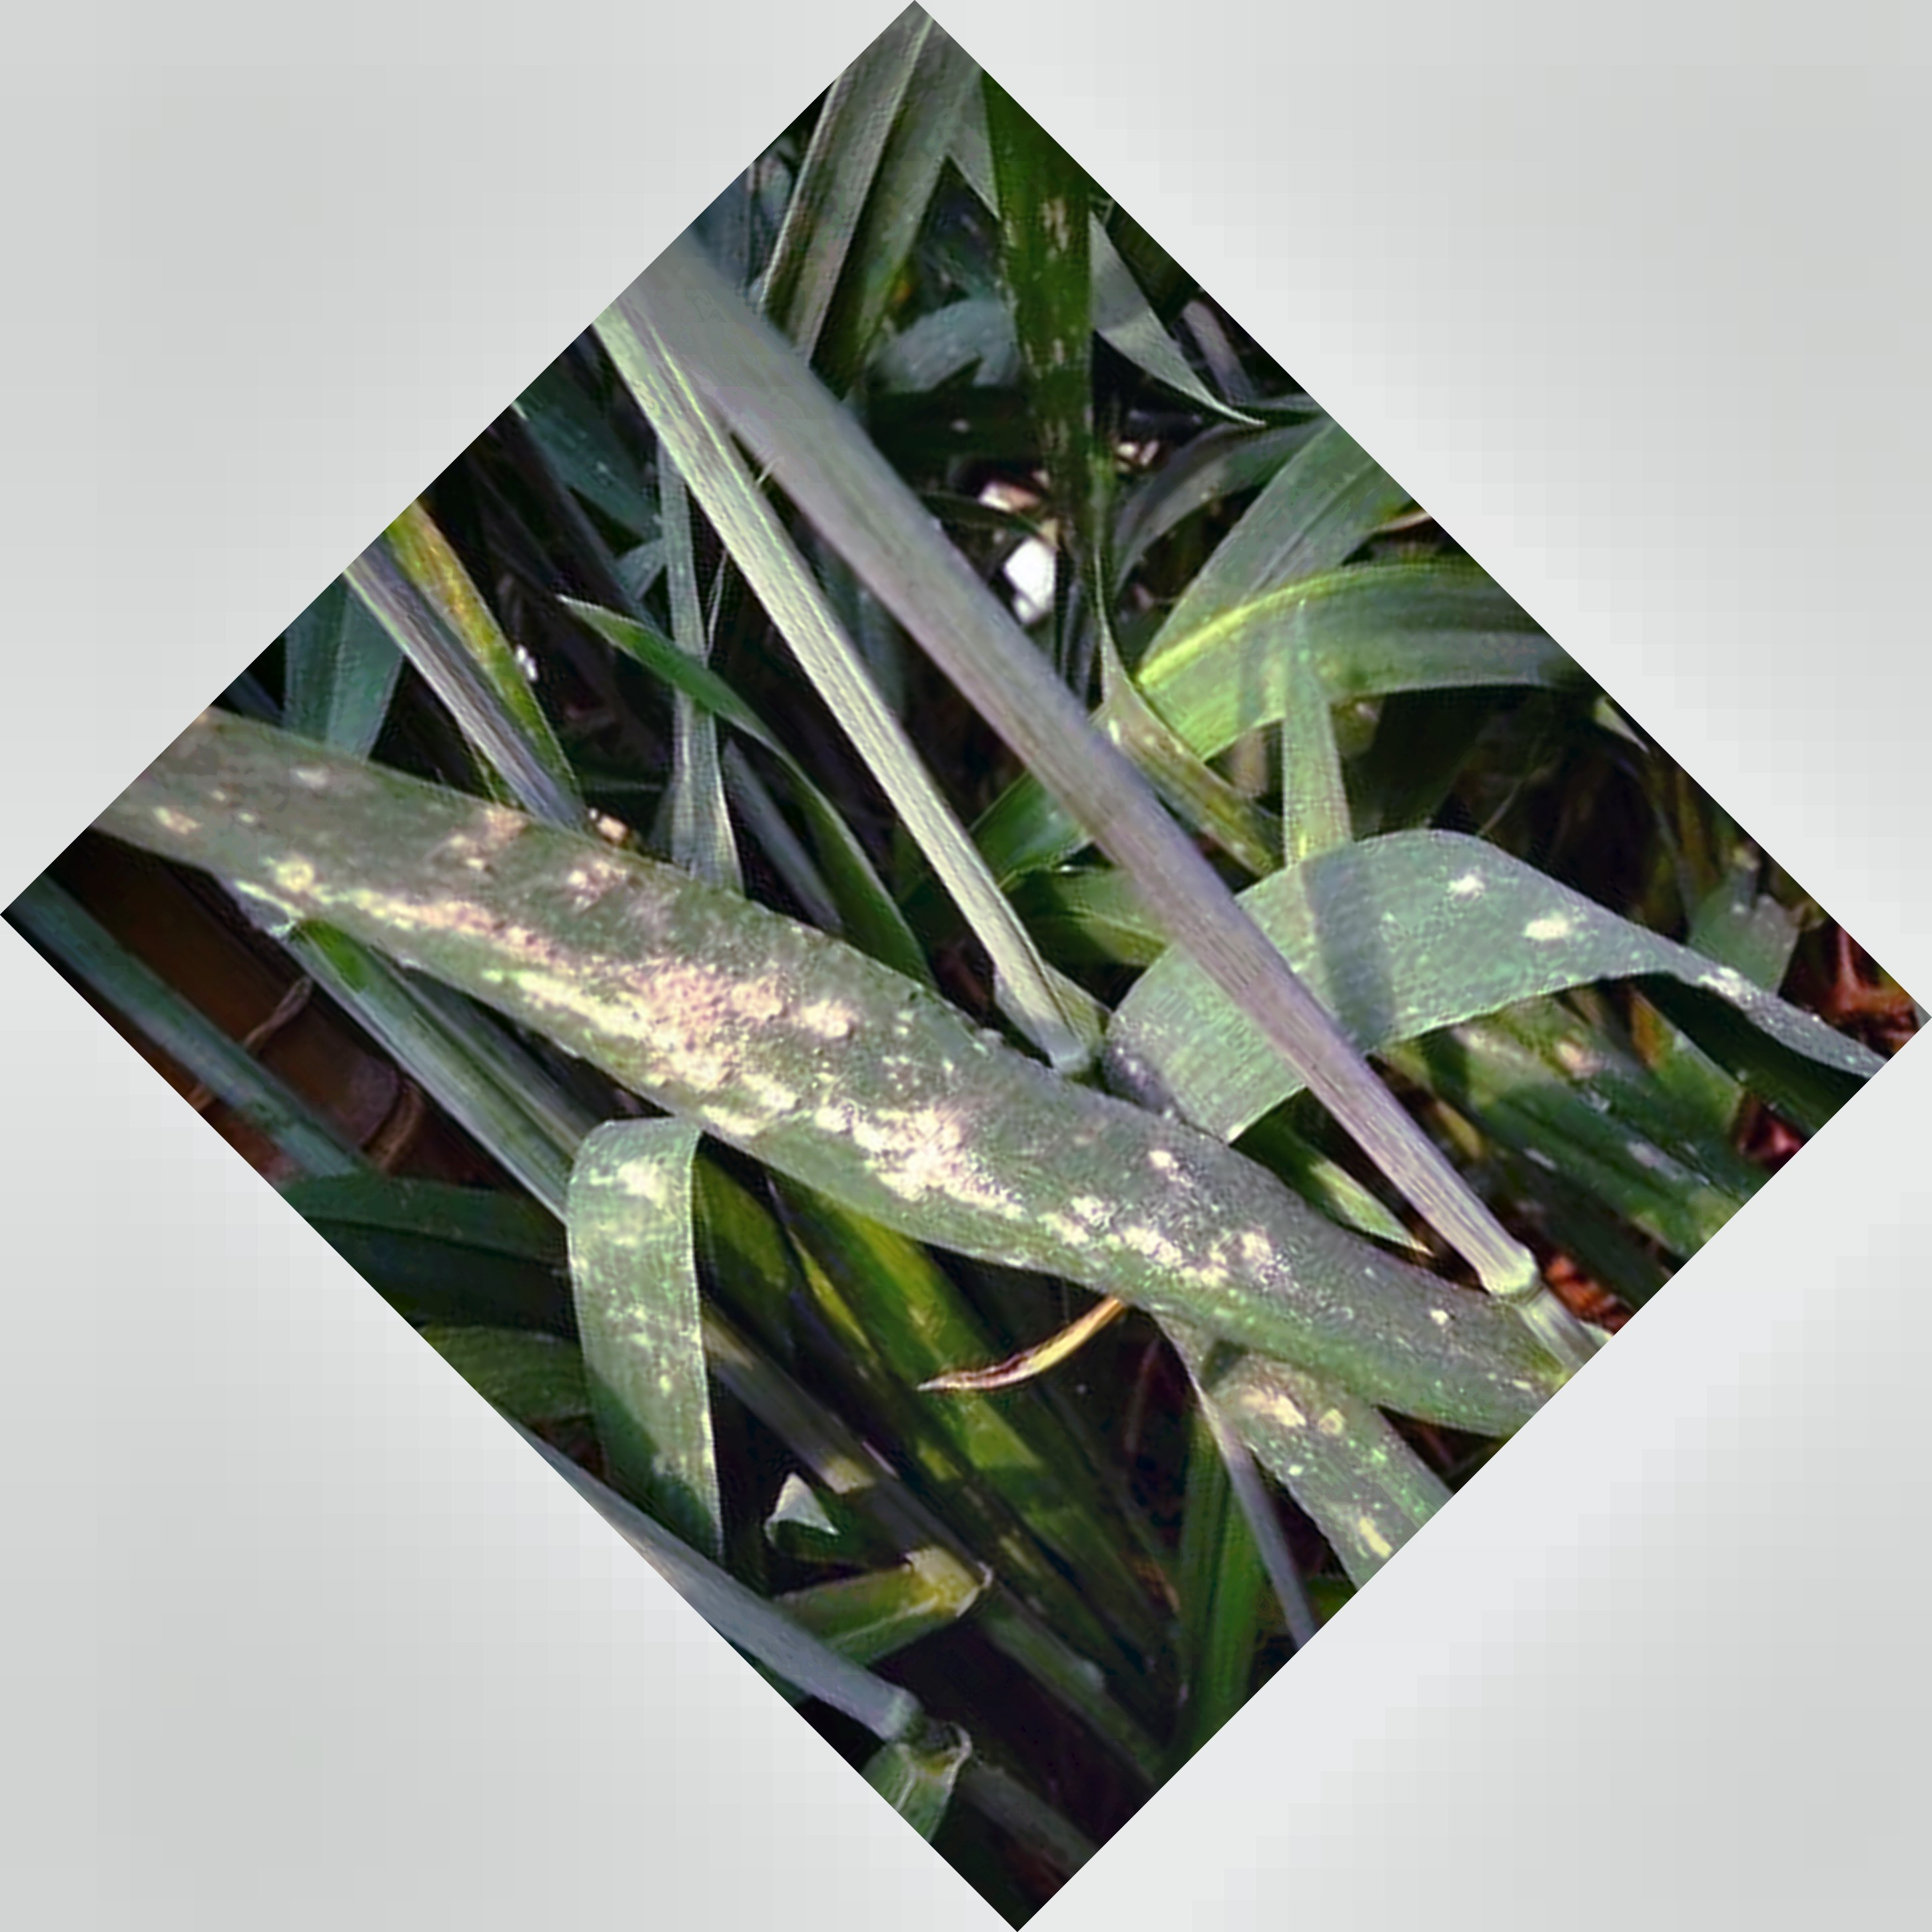Powdery Mildew: (327, 786, 1320, 1368)
